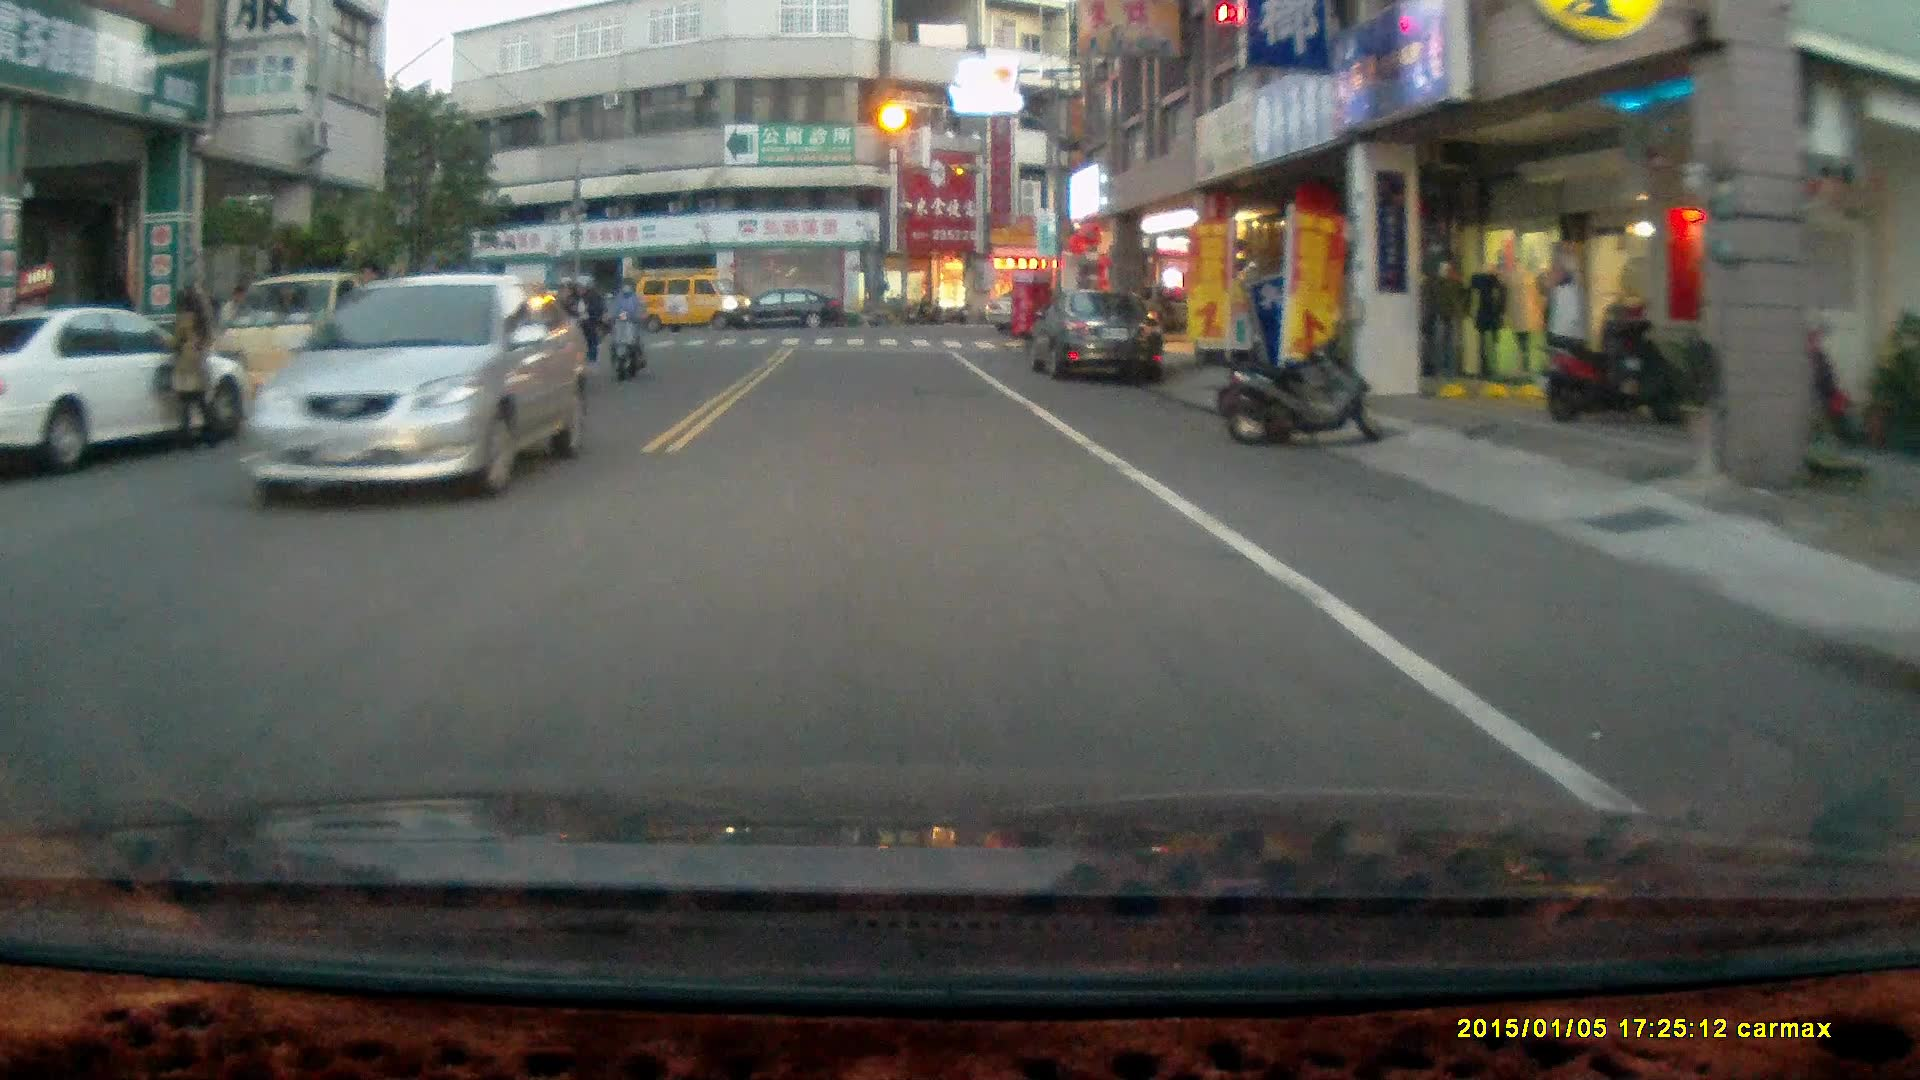pedestrian: (153, 284, 219, 456)
rider: (540, 271, 597, 399), (606, 275, 648, 383)
vehicle: (264, 275, 587, 517), (1, 305, 270, 480), (1028, 285, 1170, 385), (630, 269, 755, 338), (728, 289, 846, 334)
